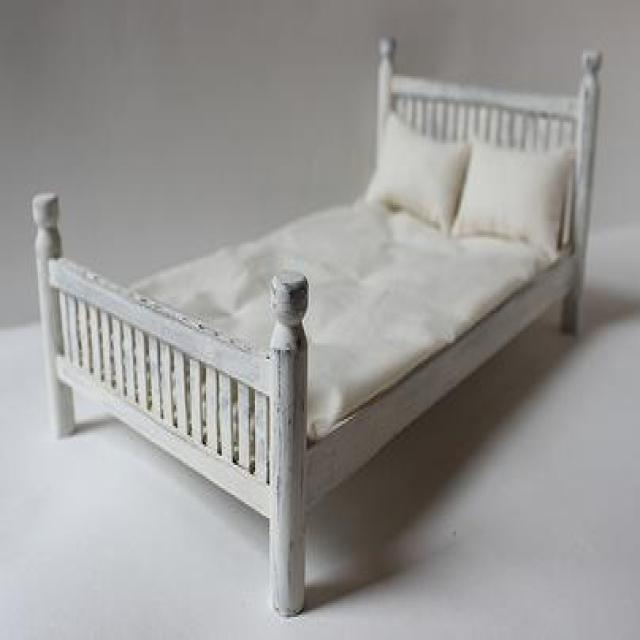bed: (30, 32, 604, 617)
